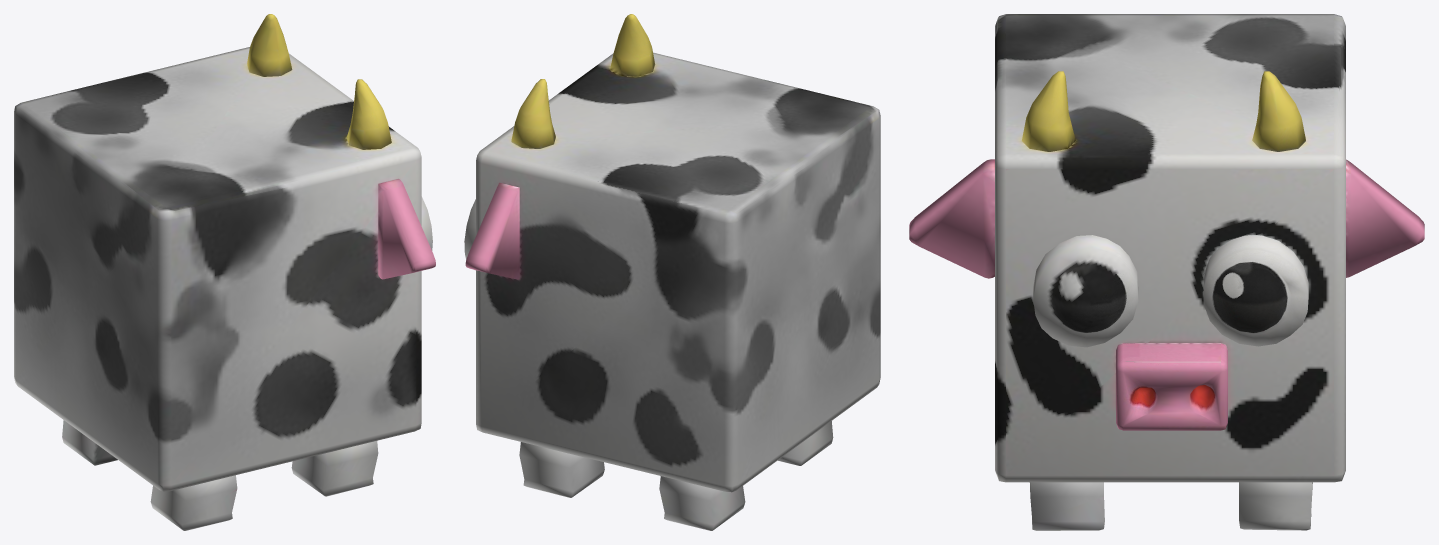
Rendered from tripo_convert_b2795707-44e4-4531-85ed-7f34a8ae4b4f.fbx.
3 renders of one model, left to right at view 1: azimuth 30°, elevation 25°; view 2: azimuth 150°, elevation 25°; view 3: azimuth 270°, elevation 25°, orthographic. The views are drawn at different scales.
Parts seen in each view (by area): view 1: tripo_node_b2795707; view 2: tripo_node_b2795707; view 3: tripo_node_b2795707.
Boxes of the visible parts, box(x1,y1,x2,y2) form: tripo_node_b2795707: box(14, 14, 435, 530); tripo_node_b2795707: box(464, 14, 880, 530); tripo_node_b2795707: box(909, 14, 1424, 530).
Size of the model in its own units: 77.93 by 99.8 by 98.24.
